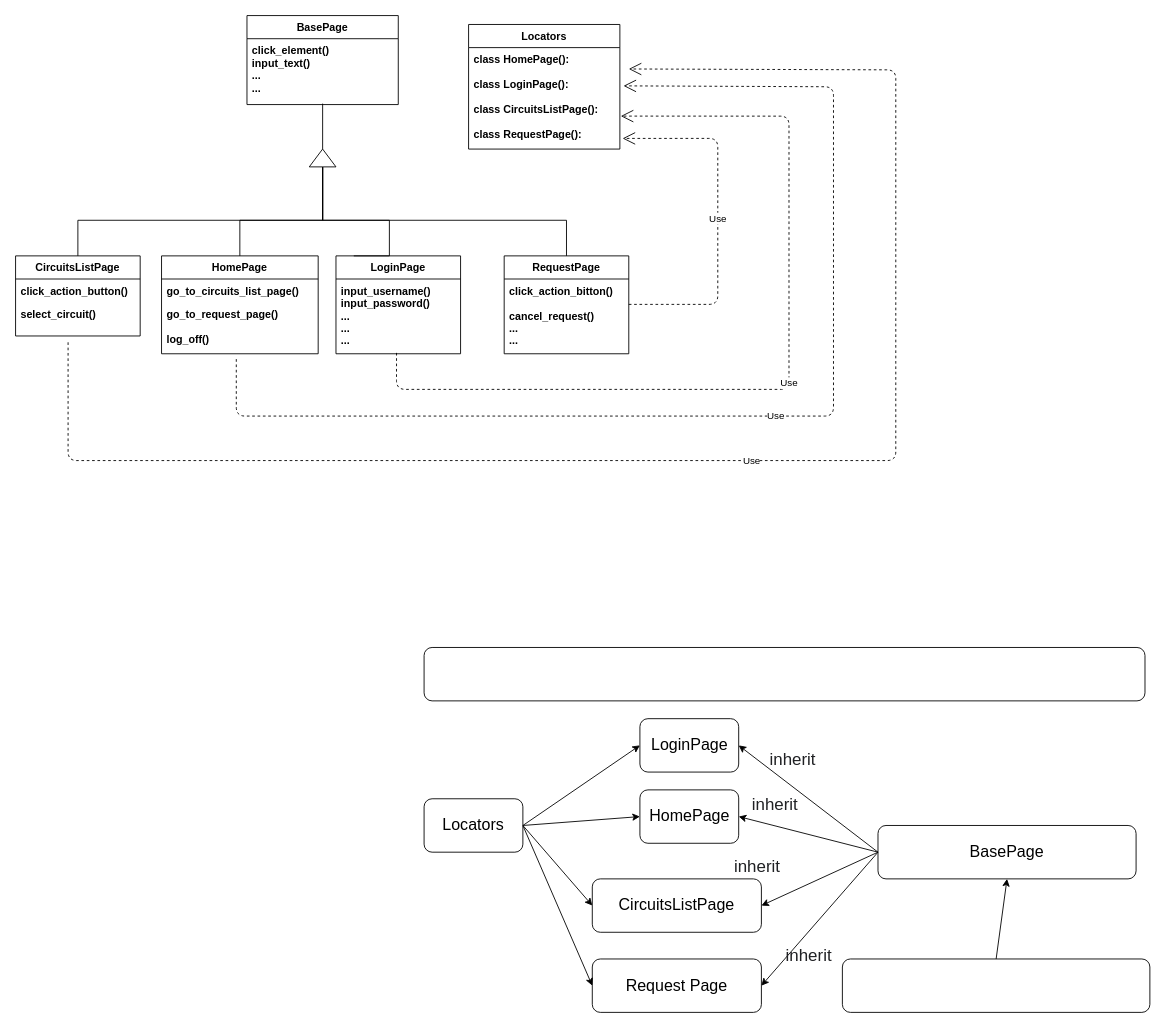
The diagram is 1166 pixels wide and 1028 high, and some of its shapes have lost their labels. The shapes that lost their labels are listed below. From the top down, each one's centre as x and y in pixels, then its label:
At [784,674]: "Test Case".
At [995,985]: "Selenium".
